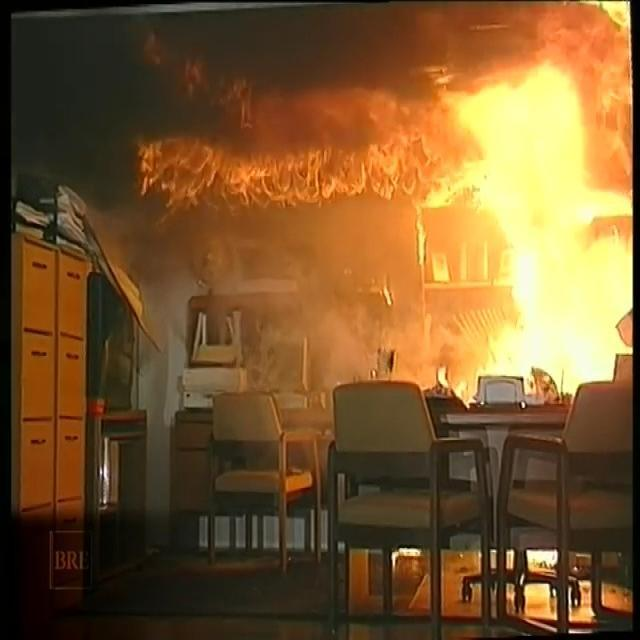Fire: (126, 8, 634, 384)
